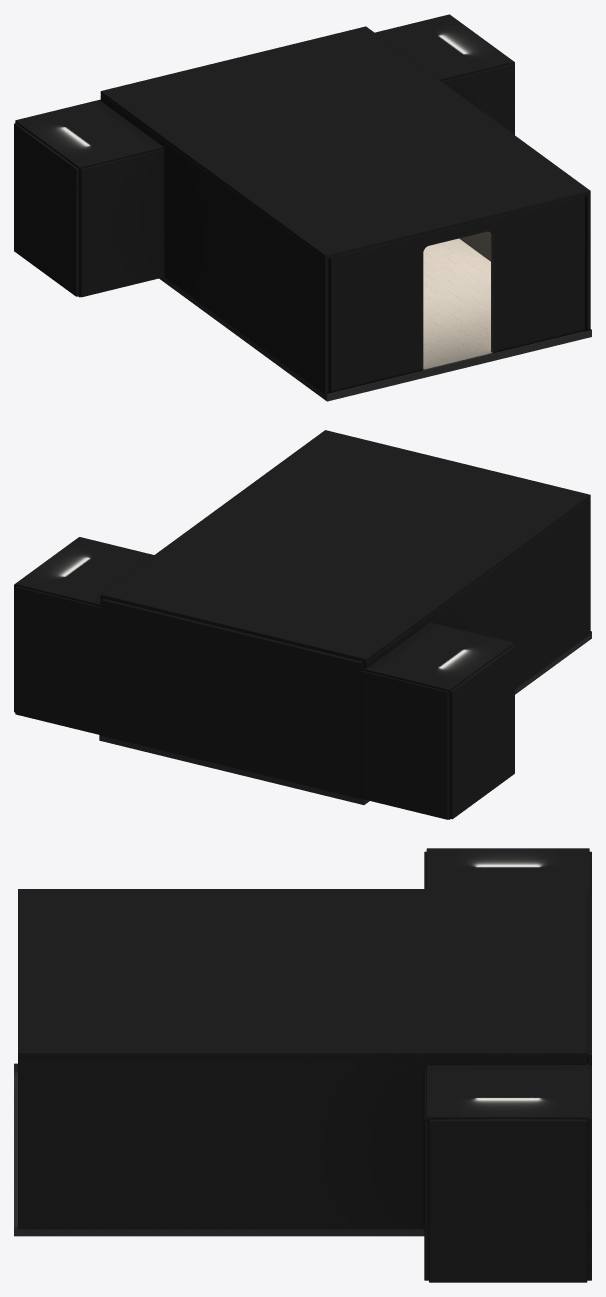
Rendered from hall-contemporary.glb.
3 views of the same model, one above another, from view 1: azimuth 30°, elevation 25°; view 2: azimuth 150°, elevation 25°; view 3: azimuth 270°, elevation 25° (orthographic). The views are drawn at different scales.
Visible parts, largest first — view 1: LIGHTMAP hall walls, SURFACE hall floor; view 2: LIGHTMAP hall walls, SURFACE hall floor; view 3: LIGHTMAP hall walls, SURFACE hall floor.
Part boxes in pixels (<box>): LIGHTMAP hall walls: <box>14,14,590,394</box>; SURFACE hall floor: <box>78,238,591,401</box>; LIGHTMAP hall walls: <box>14,430,590,819</box>; SURFACE hall floor: <box>99,631,591,819</box>; LIGHTMAP hall walls: <box>18,848,591,1282</box>; SURFACE hall floor: <box>14,1063,424,1236</box>.
Bounding box in the file's own units: 20.3 × 6.41 × 18.27.
Materials: 20 (19 with a texture image).
